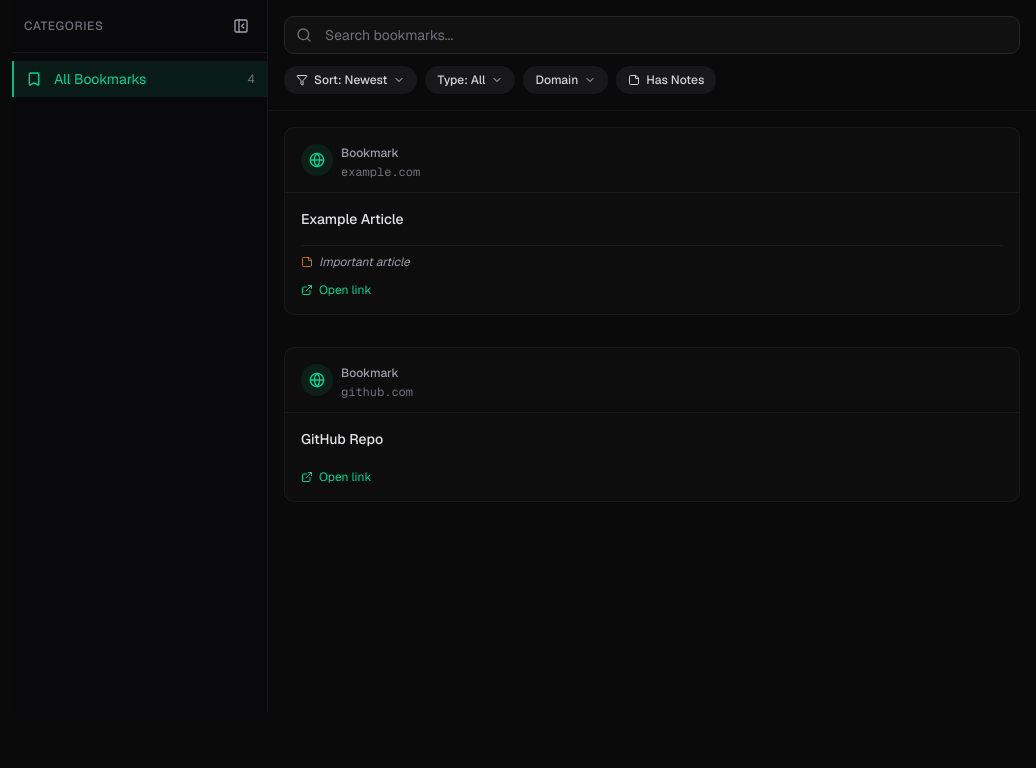
Test: BrowseContent › Filter chips and dropdowns › Sort dropdown › clicking sort dropdown shows options: Newest, Oldest, Recently viewed
Click the button "Sort: Newest".
click(351, 80)  # box x1=284 y1=66 x2=418 y2=94
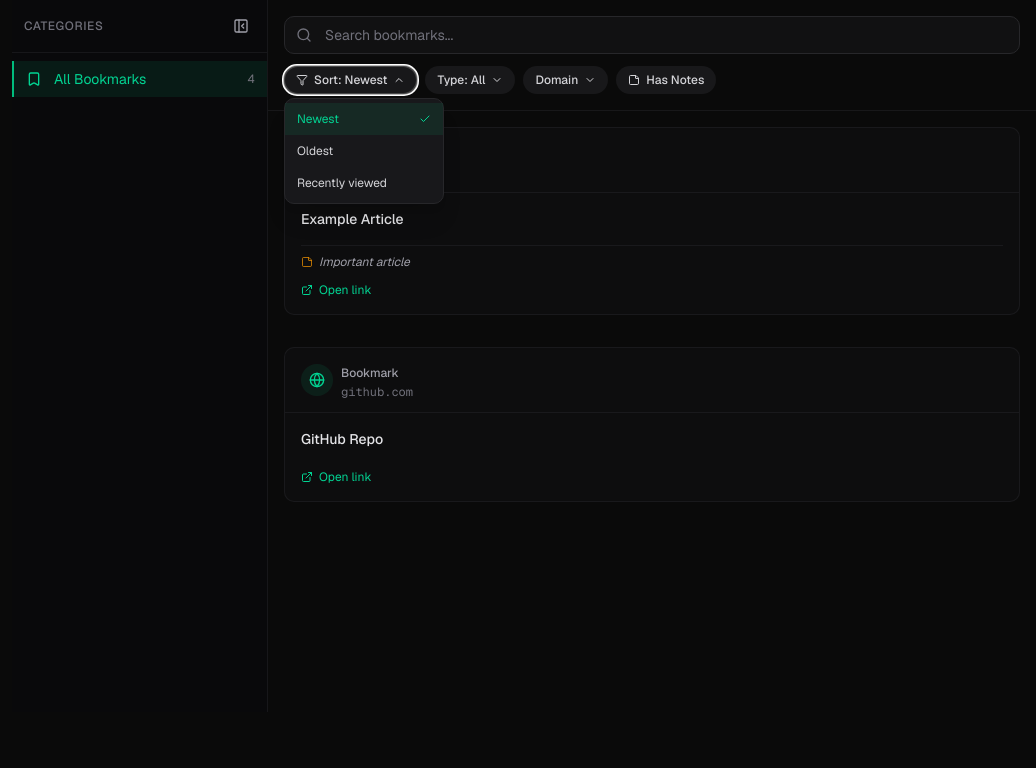
Expected: the option "Newest" is shown, x1=285 y1=103 x2=443 y2=135
Expected: the option "Oldest" is shown, x1=285 y1=135 x2=443 y2=167
Expected: the option "Recently viewed" is shown, x1=285 y1=167 x2=443 y2=199
